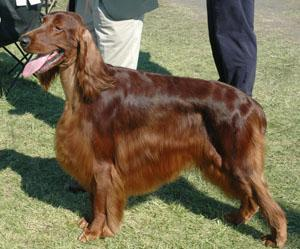Irish_setter: (15, 10, 289, 247)
